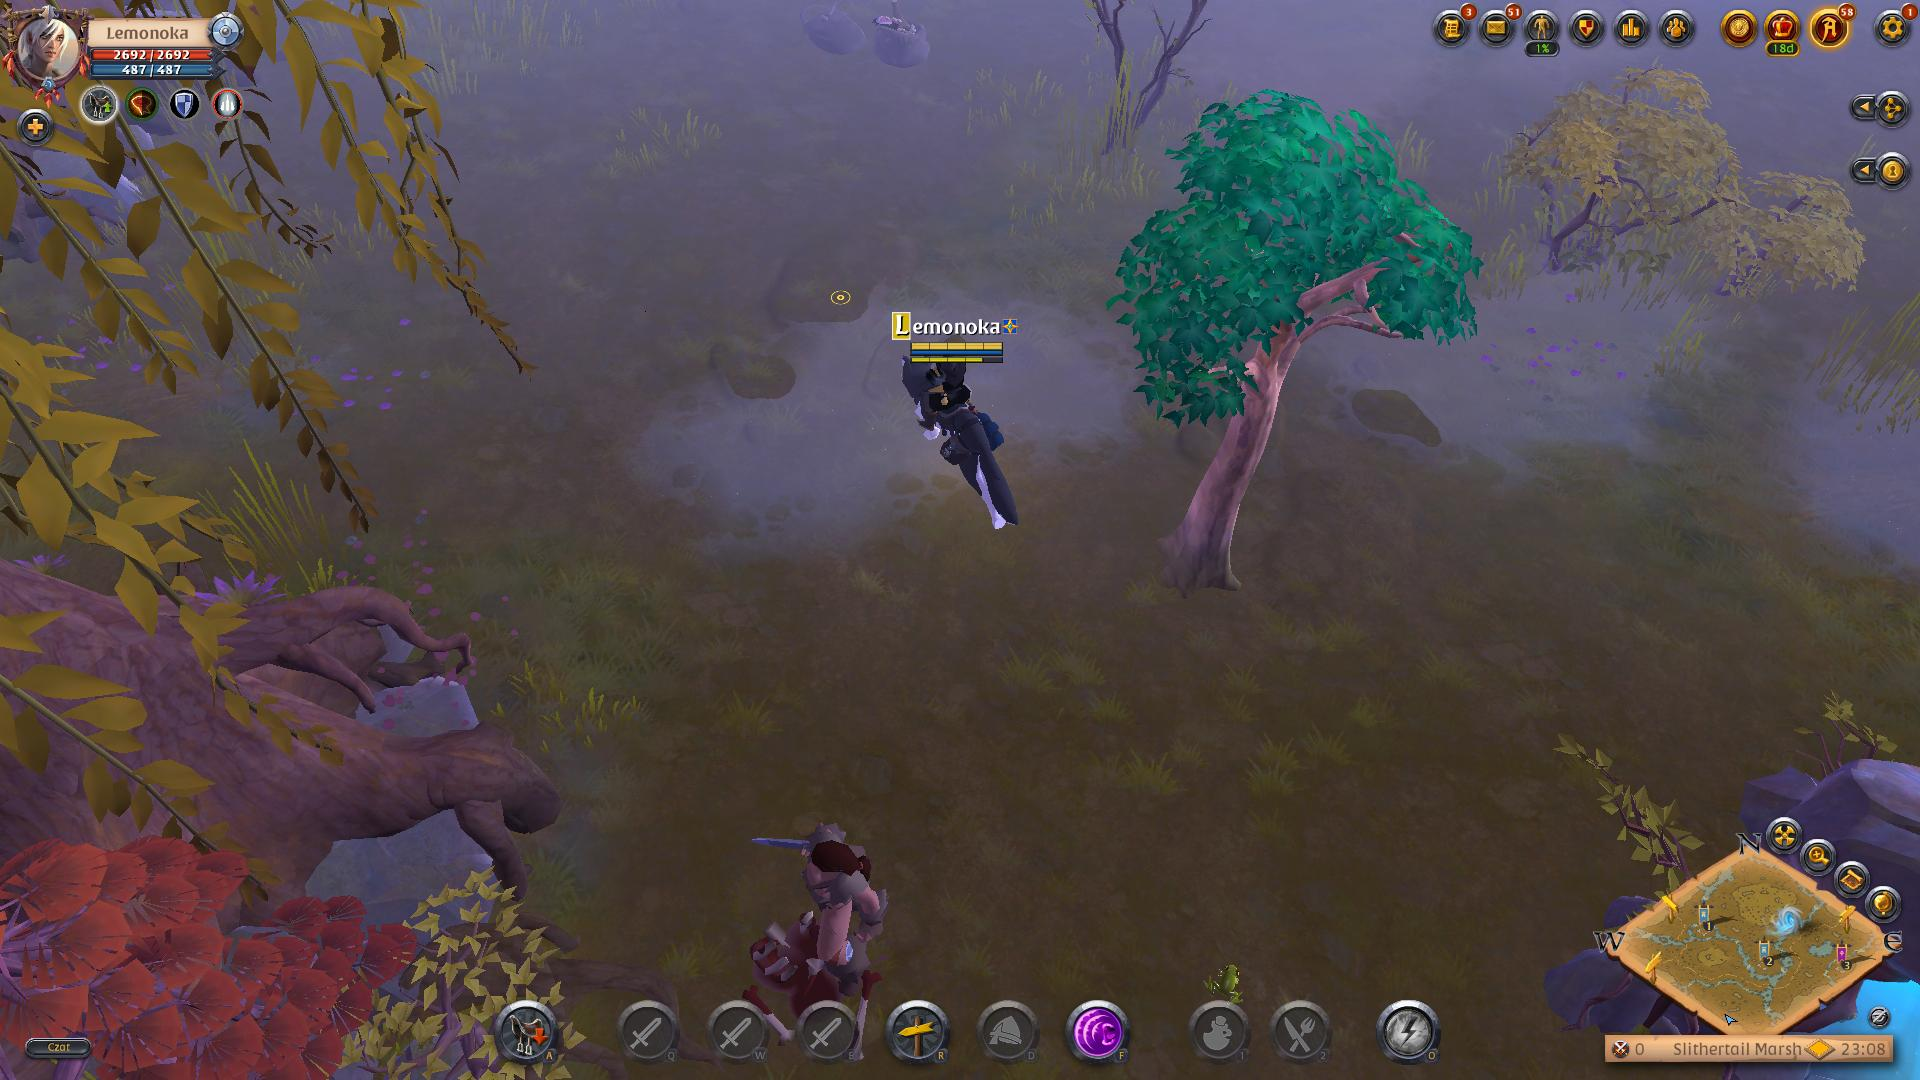wood tier 3: (1116, 94, 1476, 431)
